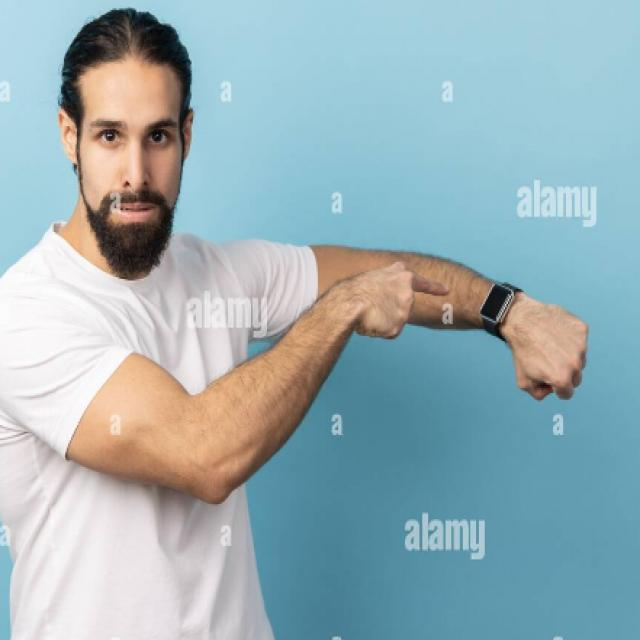Watch: (477, 280, 520, 340)
